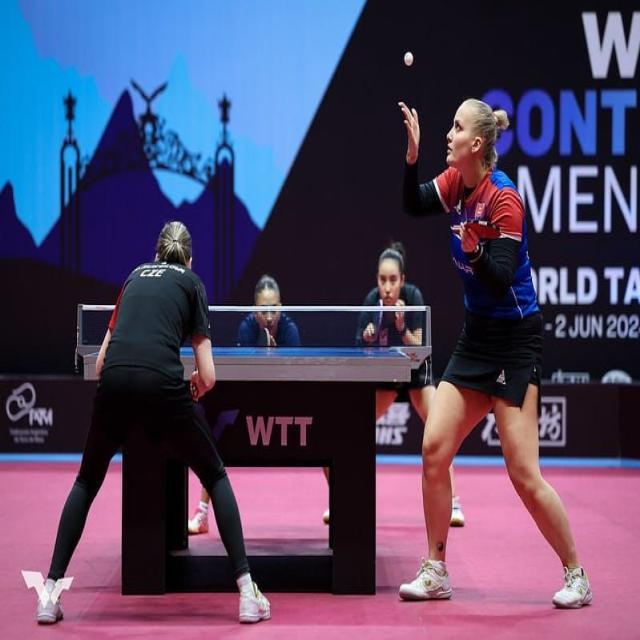TT Net: (73, 301, 433, 351)
TT Racket: (458, 215, 508, 245), (368, 291, 384, 337), (254, 321, 273, 354)
TT Table: (85, 342, 433, 361)
